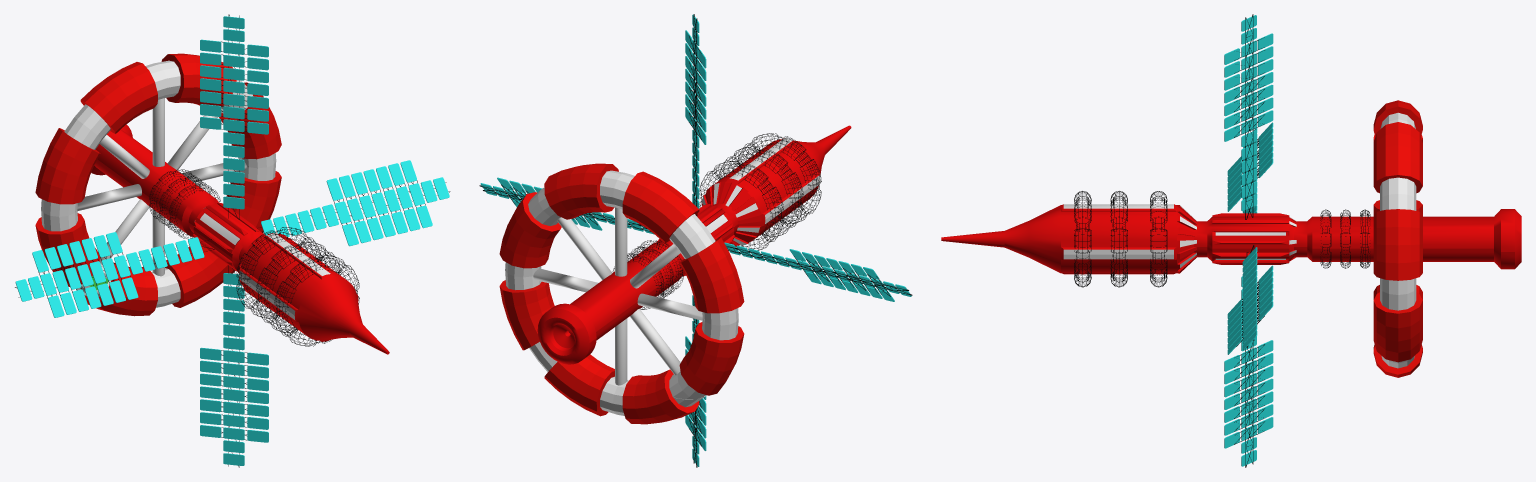
The model's file is station.fbx.
The picture shows the model from 3 angles, left to right: view 1: azimuth 30°, elevation 25°; view 2: azimuth 150°, elevation 25°; view 3: azimuth 270°, elevation 25°; orthographic projection.
Parts seen in each view (by area): view 1: Solar.002, Wheel, Connectors; view 2: Wheel, Solar.002, Connectors; view 3: Solar.002, Wheel.
Part boxes in pixels (<box>): Solar.002: <box>15,14,450,467</box>; Wheel: <box>35,53,281,316</box>; Connectors: <box>77,98,246,276</box>; Wheel: <box>499,163,744,424</box>; Solar.002: <box>479,14,912,467</box>; Connectors: <box>533,207,702,385</box>; Solar.002: <box>941,14,1521,467</box>; Wheel: <box>1373,100,1422,377</box>.
Bounding box in the file's own units: 166627 × 166627 × 194442.
